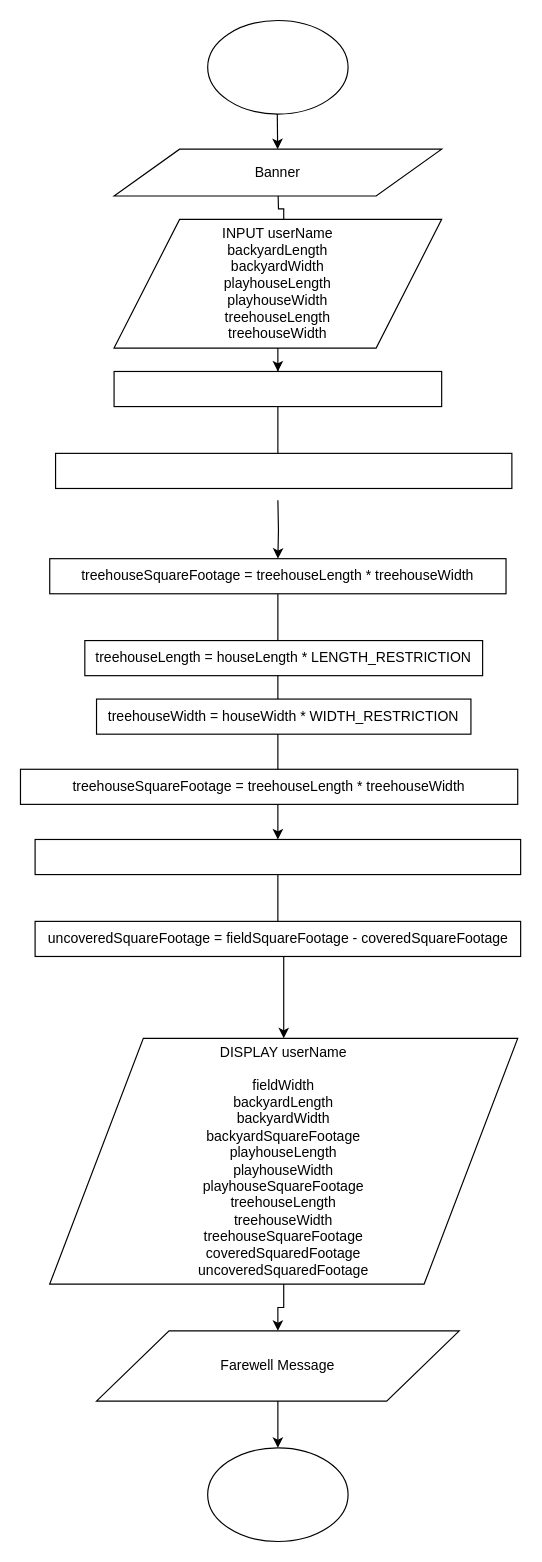
Some shapes in this 542 by 1562 pixel diagram are drawn without their labels. The centre of each missing label's shape, as x and y in pixels:
backyardSquareFootage = backyardLength * backyardWidth: pixel 277 388
coveredSquareFootage = backyardSquareFootage + playhouseSquareFootage: pixel 277 856
playhouseSquareFootage = playhouseLength * playhouseWidth: pixel 283 470
Start: pixel 277 66
STOP: pixel 277 1494
